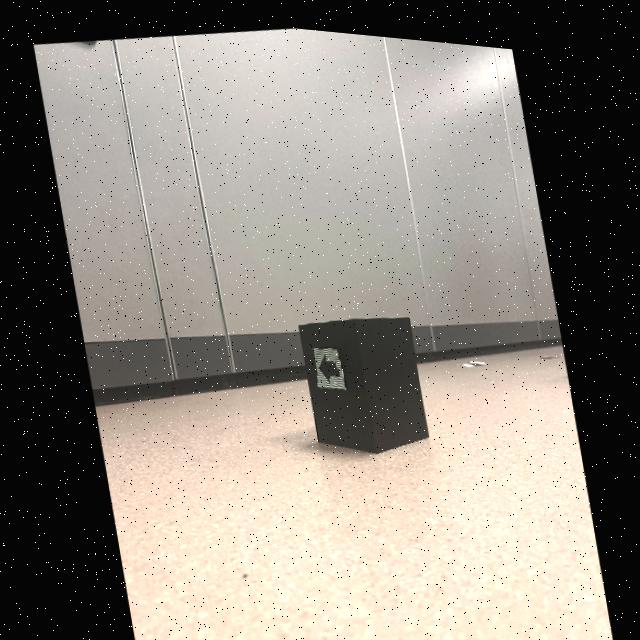LEFT: (318, 347, 338, 377)
